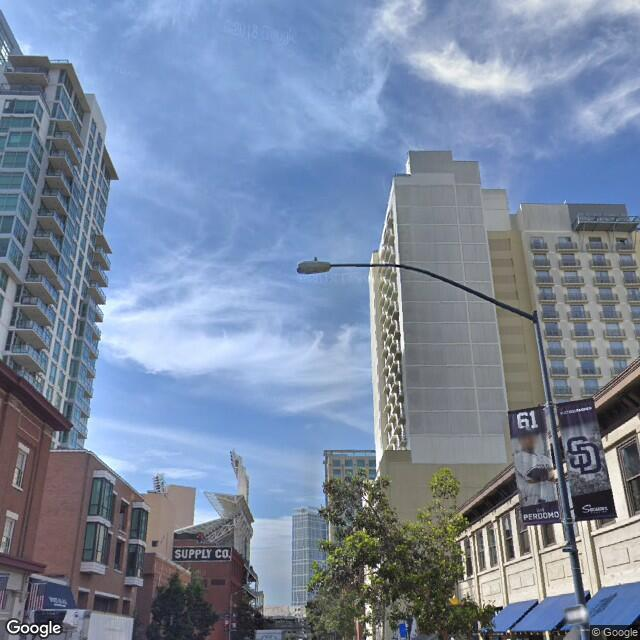light: (294, 253, 336, 274)
window: (615, 434, 640, 520), (88, 472, 115, 518), (505, 509, 525, 565), (90, 519, 110, 566), (594, 267, 613, 288)
